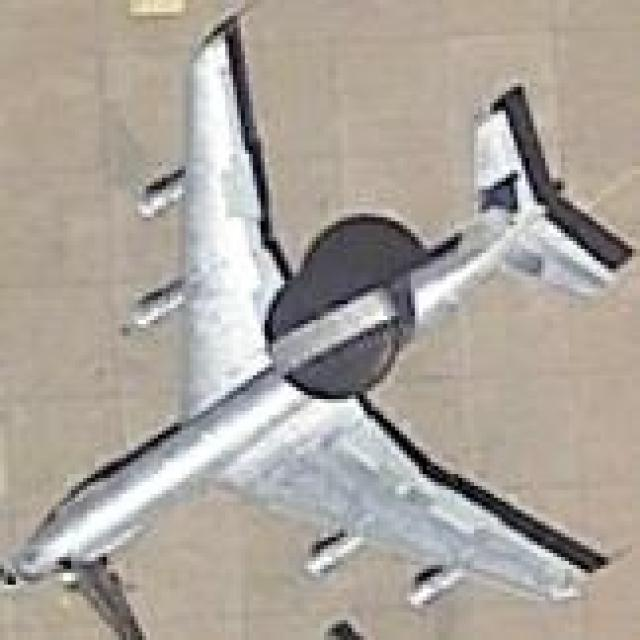E-3_TopDown: (0, 4, 636, 636)
